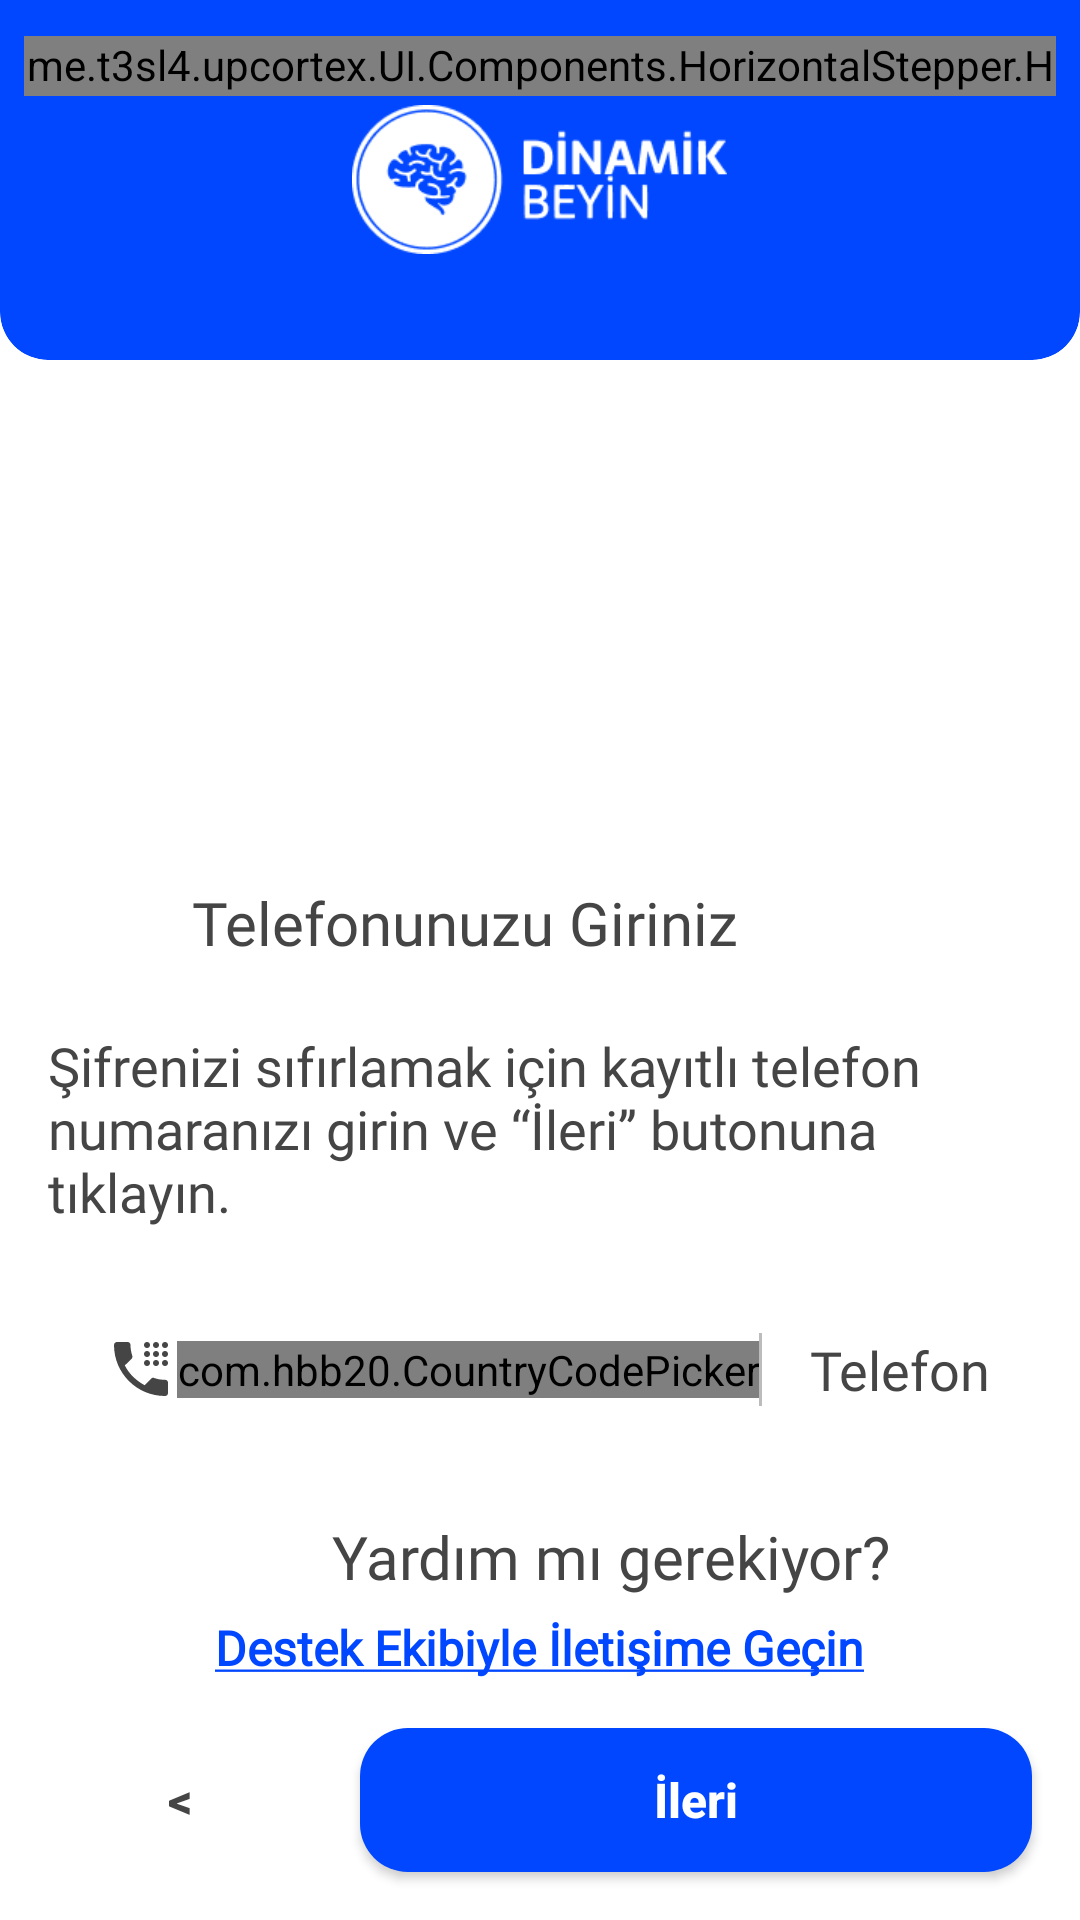

Screen size 1080x1920. Icon name, then its box in pixels as detection(x1, y1, x2, y2):
ikon register phone: detection(114, 1342, 168, 1396)
